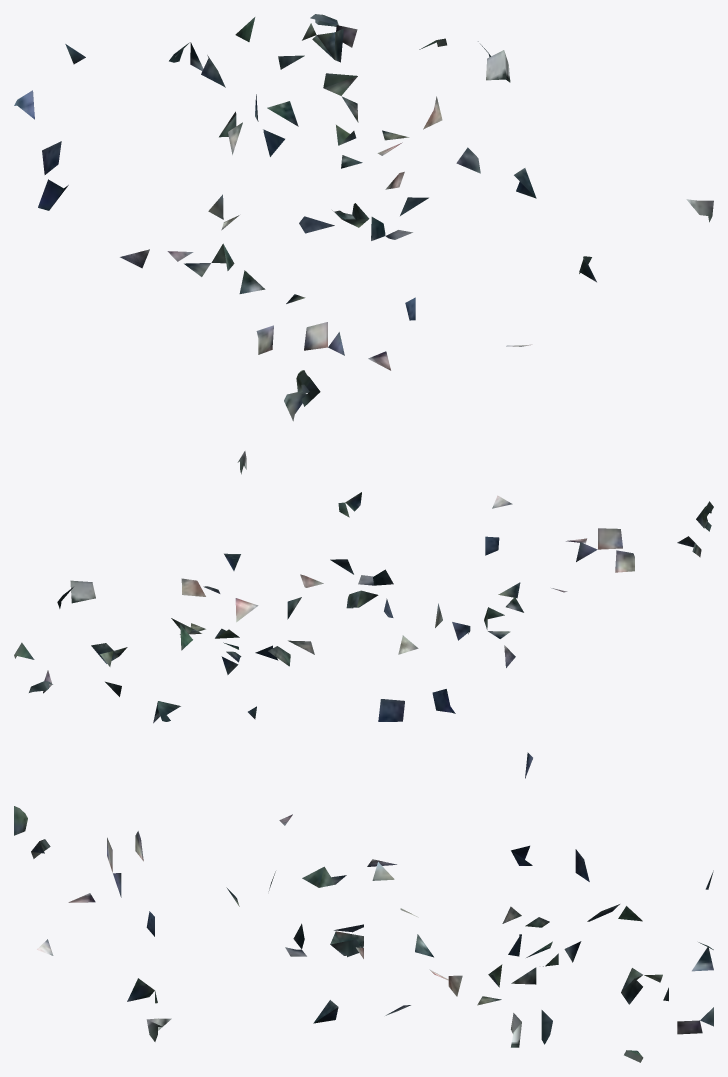
The picture shows the model from 3 angles, top to bottom: view 1: azimuth 30°, elevation 25°; view 2: azimuth 150°, elevation 25°; view 3: azimuth 270°, elevation 25°; orthographic projection. The views are drawn at different scales.
Parts seen in each view (by area): view 1: 304362727043614346_1; view 2: 304362727043614346_1; view 3: 304362727043614346_1.
Part boxes in pixels (x1,y1,x2,y2): 304362727043614346_1: [14, 14, 713, 421]; 304362727043614346_1: [14, 451, 713, 723]; 304362727043614346_1: [14, 752, 713, 1062].
Bounding box in the file's own units: 110 × 26.51 × 153.
Materials: 1 (1 with a texture image).
